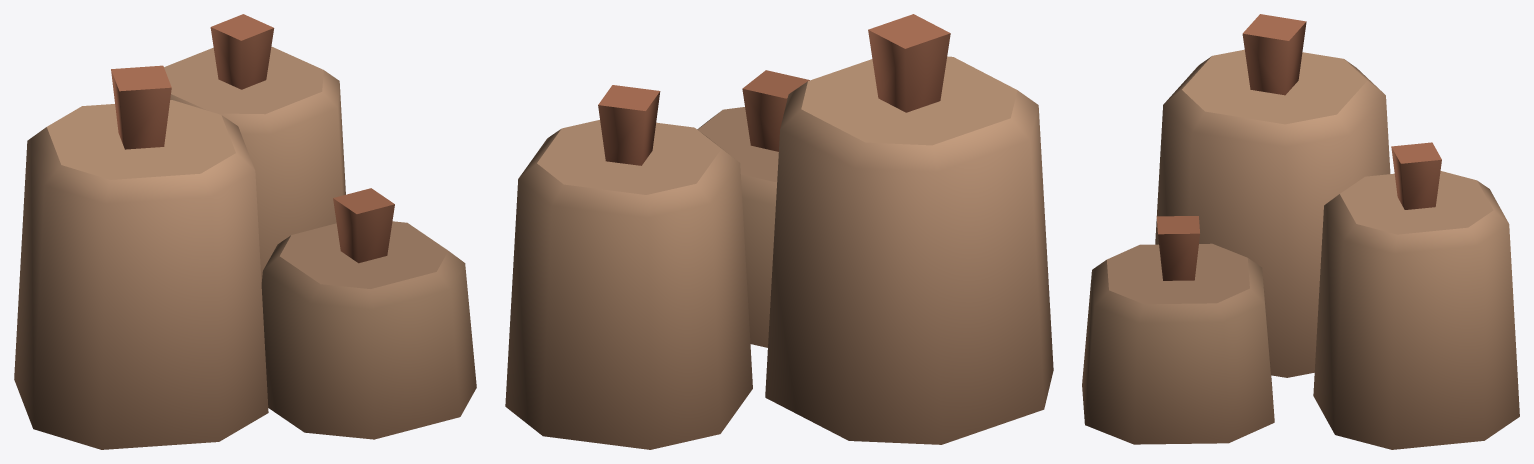
File: candle-multiple.glb
3 views of the same model, side by side, from view 1: azimuth 30°, elevation 25°; view 2: azimuth 150°, elevation 25°; view 3: azimuth 270°, elevation 25° (orthographic). The views are drawn at different scales.
Parts seen in each view (by area): view 1: candle-multiple; view 2: candle-multiple; view 3: candle-multiple.
Part boxes in pixels (box(x1,y1,x2,y2)): candle-multiple: box(14, 14, 476, 449); candle-multiple: box(505, 14, 1053, 449); candle-multiple: box(1082, 14, 1519, 449).
Size of the model in its own units: 0.3825 by 0.3 by 0.3998.
